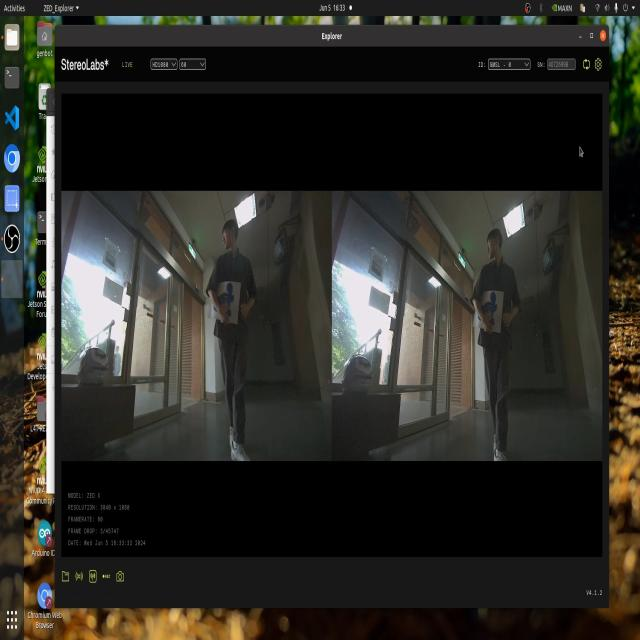blue: (476, 287, 505, 335), (216, 279, 238, 324)
